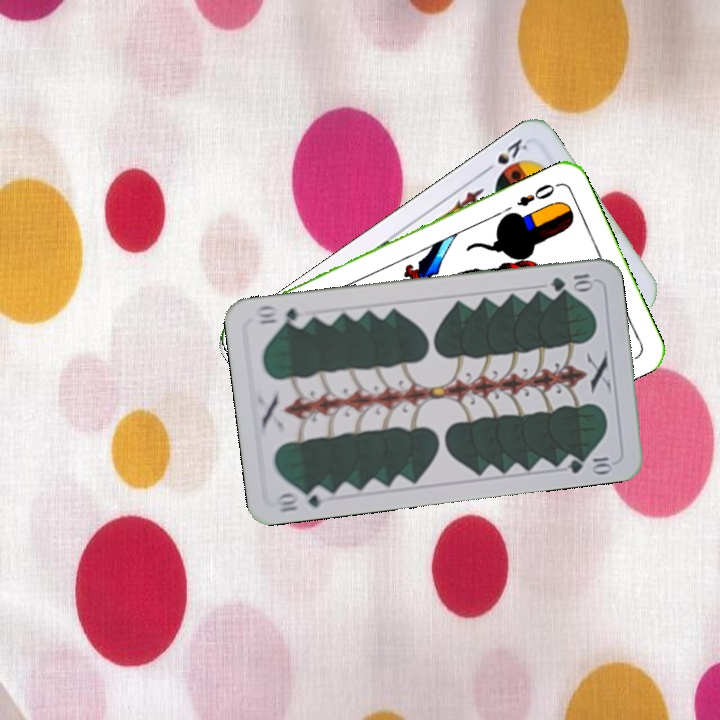EO: (513, 179, 562, 210)
G10: (272, 482, 330, 515), (546, 269, 596, 294)
SK: (479, 134, 531, 180)
